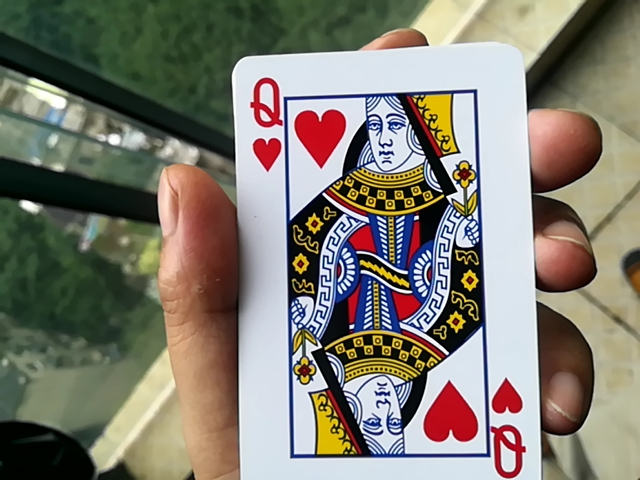hx q: (210, 42, 552, 477)
